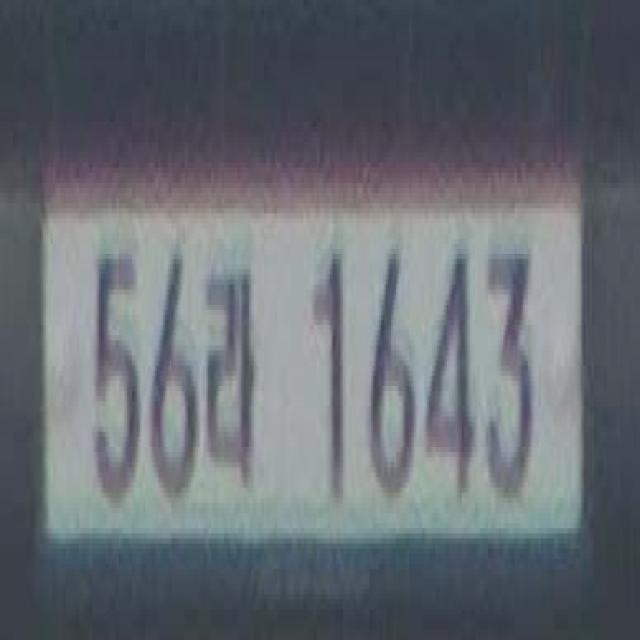illegal_plate: (42, 172, 588, 599)
